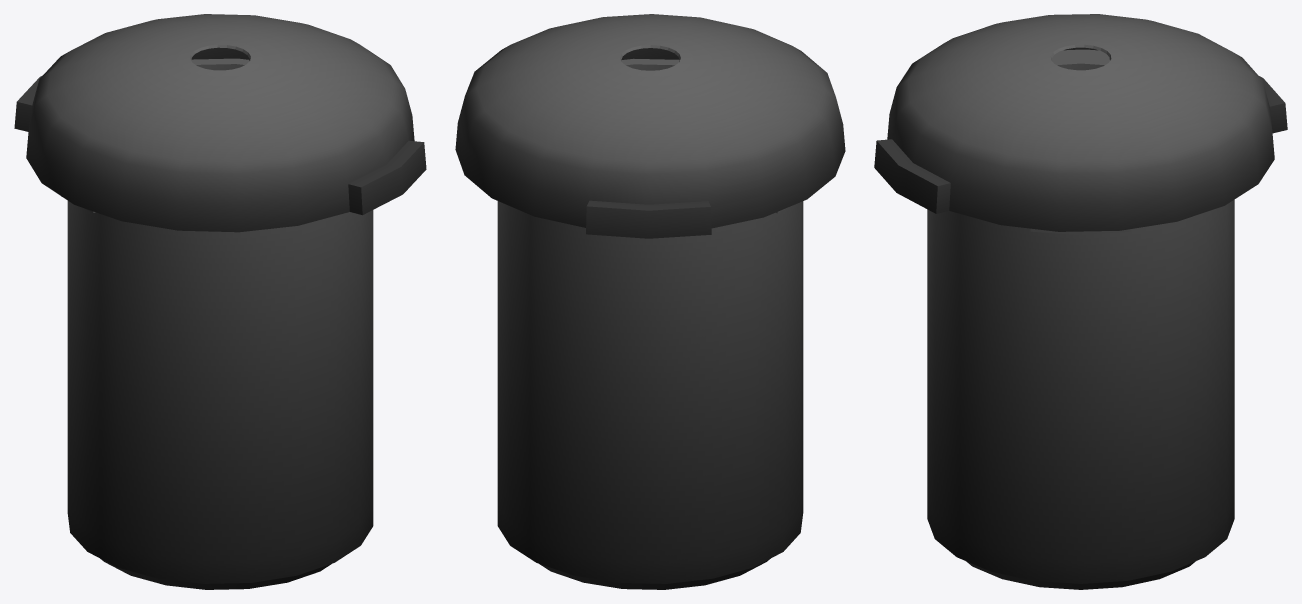
Rendered from PlasticGrayFBX.fbx.
3 views of the same model, side by side, from view 1: azimuth 30°, elevation 25°; view 2: azimuth 150°, elevation 25°; view 3: azimuth 270°, elevation 25° (orthographic).
Parts seen in each view (by area): view 1: polySurface1, pSphere1; view 2: polySurface1, pSphere1; view 3: polySurface1, pSphere1.
Boxes of the visible parts, x1,y1,x2,y2 form: polySurface1: (61,58,373,589); pSphere1: (14,14,426,232); polySurface1: (497,58,803,589); pSphere1: (455,14,845,238); polySurface1: (927,49,1234,589); pSphere1: (874,14,1287,231).
Bounding box in the file's own units: 29.87 × 40.44 × 31.86.
1 material, 1 textured.
